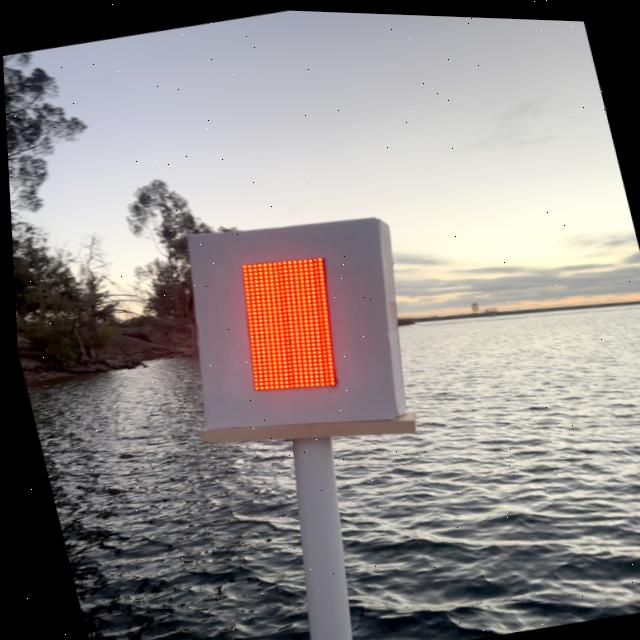led: (190, 215, 377, 431)
